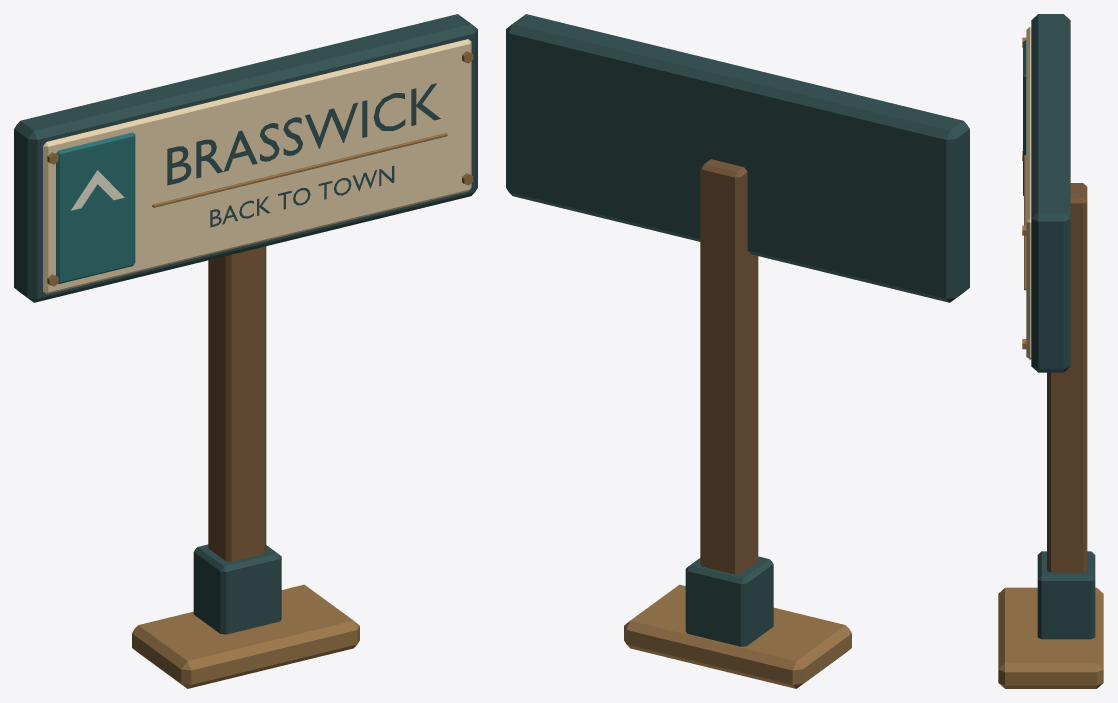
File: w0a-east-direction-return.glb
The picture shows the model from 3 angles, left to right: view 1: azimuth 30°, elevation 25°; view 2: azimuth 150°, elevation 25°; view 3: azimuth 270°, elevation 25°; orthographic projection. The views are drawn at different scales.
Visible parts, largest first — view 1: ThresholdDirection_return; view 2: ThresholdDirection_return; view 3: ThresholdDirection_return.
Boxes of the visible parts, bbox=[...] form: ThresholdDirection_return: bbox=[14, 14, 477, 688]; ThresholdDirection_return: bbox=[506, 14, 969, 688]; ThresholdDirection_return: bbox=[998, 14, 1103, 688].
Size of the model in its own units: 1.56 by 1.91 by 0.34.
